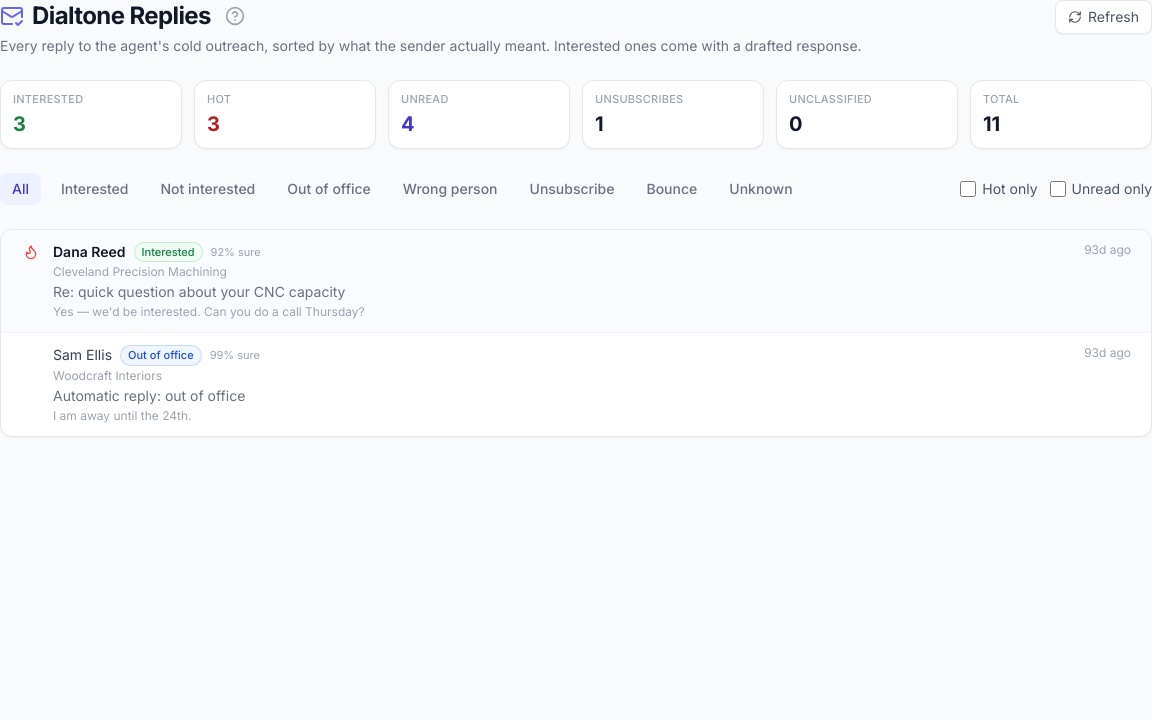
Test: DialtoneInbox page › shows the server's drafted reply for an interested lead
Click the text "Dana Reed": {"x": 89, "y": 252} [53,242,126,262]
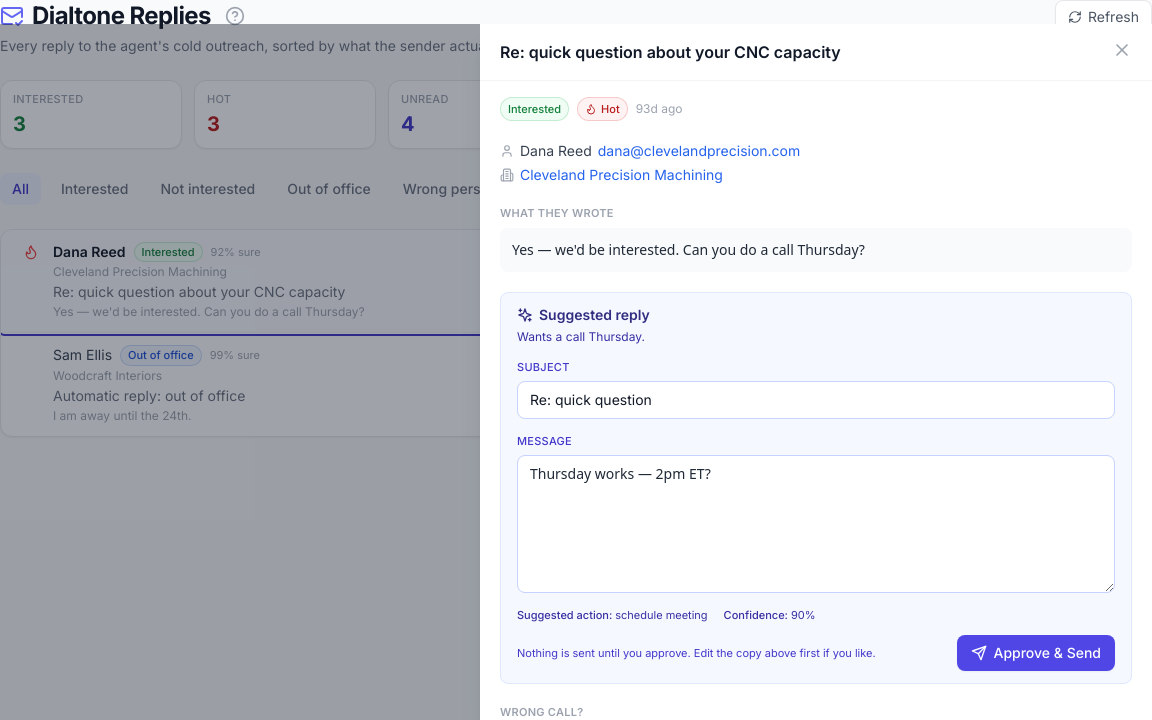
Now the heading "Suggested reply" is shown, box [517,306,650,322]
Now the text box showing "Thursday works — 2pm ET?" is shown, box [517,454,1115,592]
Now the text "schedule meeting" is shown, box [615,608,708,622]
